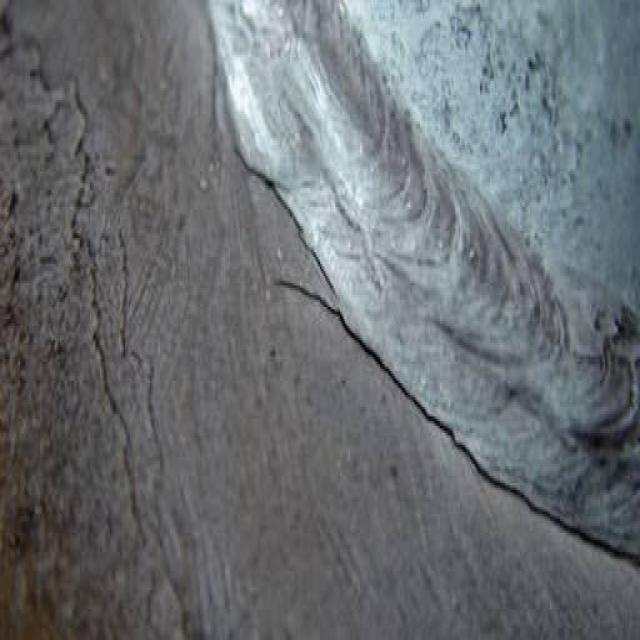Dry: (373, 348, 640, 576), (267, 274, 373, 351), (229, 128, 307, 231), (295, 230, 344, 305)
